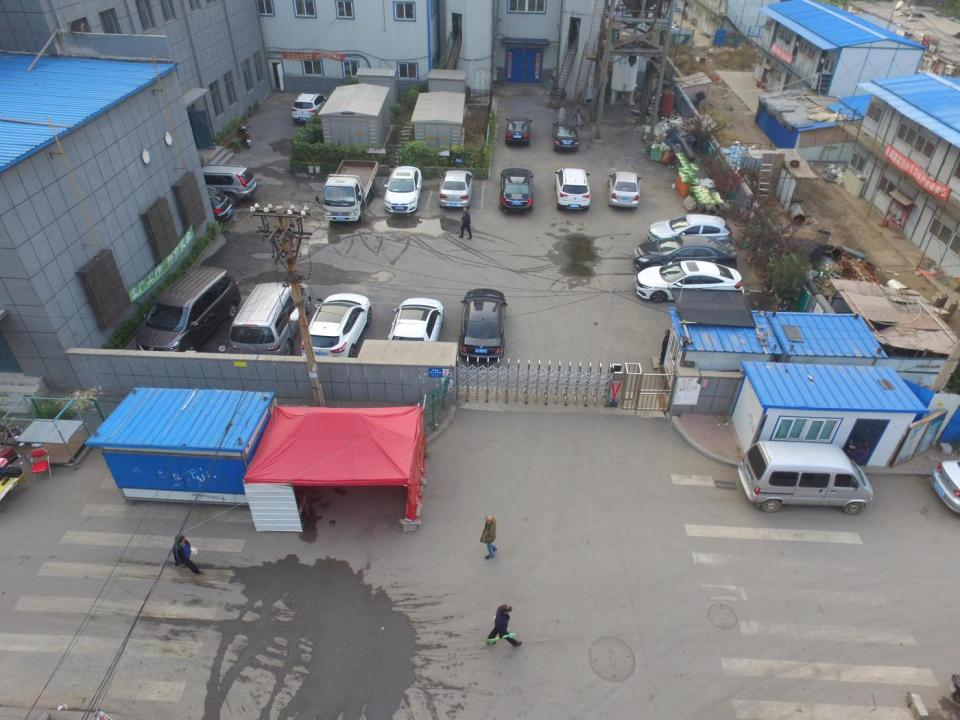car: (300, 292, 373, 365), (632, 259, 744, 306), (386, 298, 445, 368), (633, 235, 738, 274), (459, 287, 508, 363), (646, 213, 733, 251), (166, 187, 236, 223), (382, 166, 422, 213), (553, 167, 591, 213), (499, 168, 534, 214), (437, 169, 474, 210), (607, 171, 641, 210), (292, 92, 331, 125), (550, 121, 580, 153), (505, 116, 532, 146)
truck: (314, 158, 378, 224)
van: (136, 265, 241, 371), (738, 440, 873, 515), (228, 280, 312, 368), (182, 163, 258, 206)
